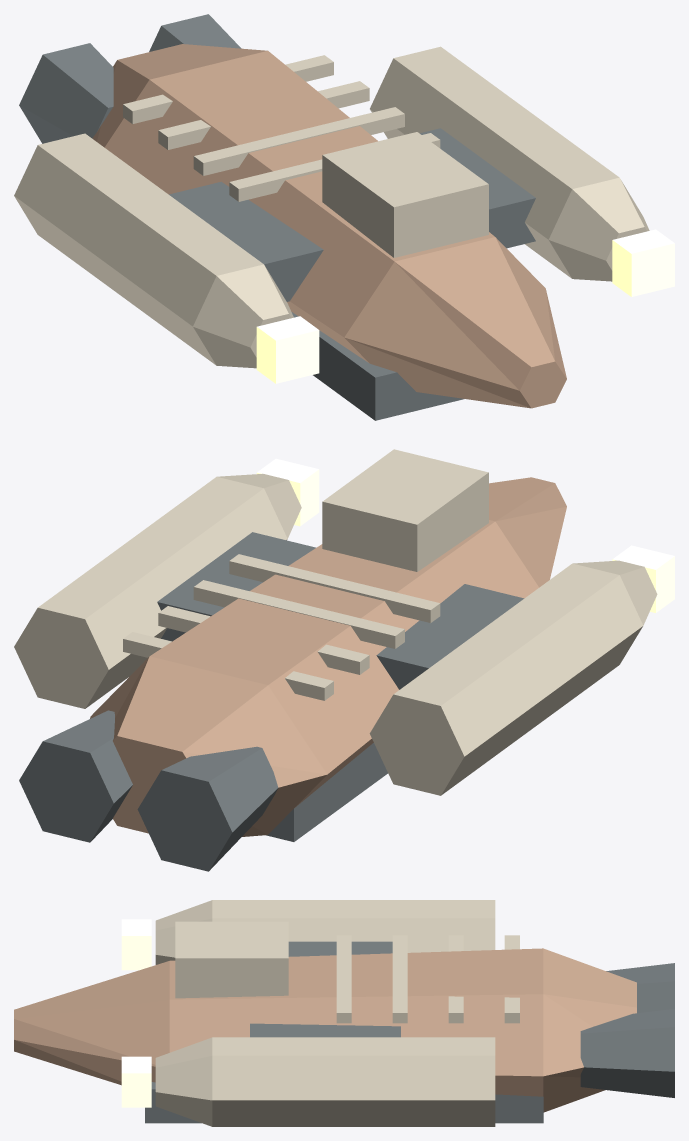
The picture shows the model from 3 angles, top to bottom: view 1: azimuth 30°, elevation 25°; view 2: azimuth 150°, elevation 25°; view 3: azimuth 270°, elevation 25°; orthographic projection. The views are drawn at different scales.
Bounding box in the file's own units: 4.01 × 1.62 × 6.44.
